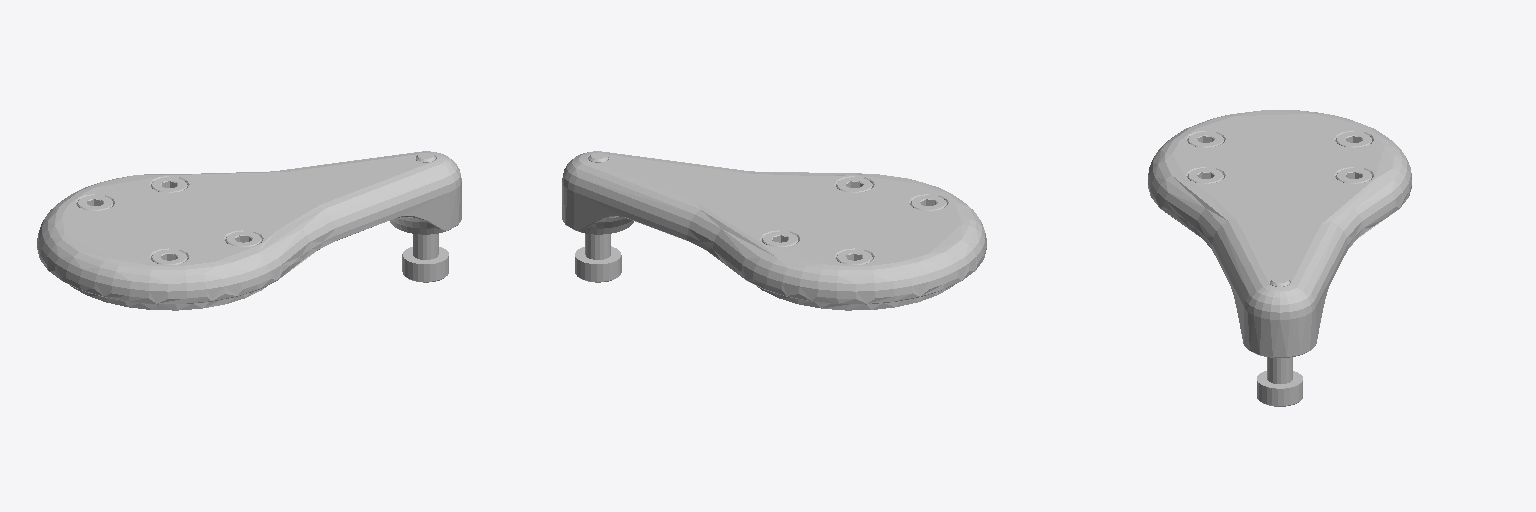
Rendered from toe-output.obj.
The picture shows the model from 3 angles: view 1: azimuth 30°, elevation 25°; view 2: azimuth 150°, elevation 25°; view 3: azimuth 270°, elevation 25°; orthographic projection.
Visible parts, largest first — view 1: toe-output; view 2: toe-output; view 3: toe-output.
Part boxes in pixels (x1,y1,x2,y2): toe-output: (37, 151, 461, 310); toe-output: (562, 151, 986, 310); toe-output: (1148, 110, 1411, 406).
Size of the model in its own units: 0.0895 by 0.025 by 0.051.